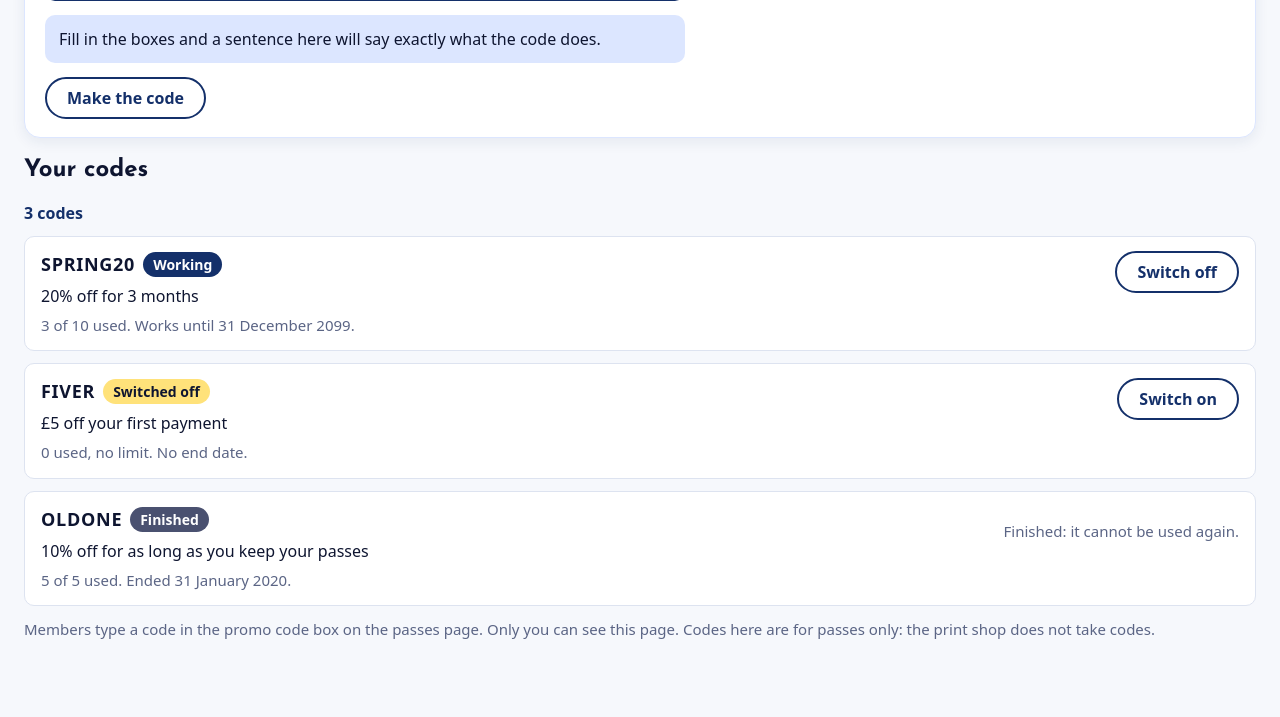
Scenario: the list of codes › switches a code back on
(page scrolled)
Expected: the text "FIVER" is shown, [41,378,95,405]
Click the button with aria-label "Switch on the code FIVER": coordinates (1178, 399) [1117,378,1239,420]
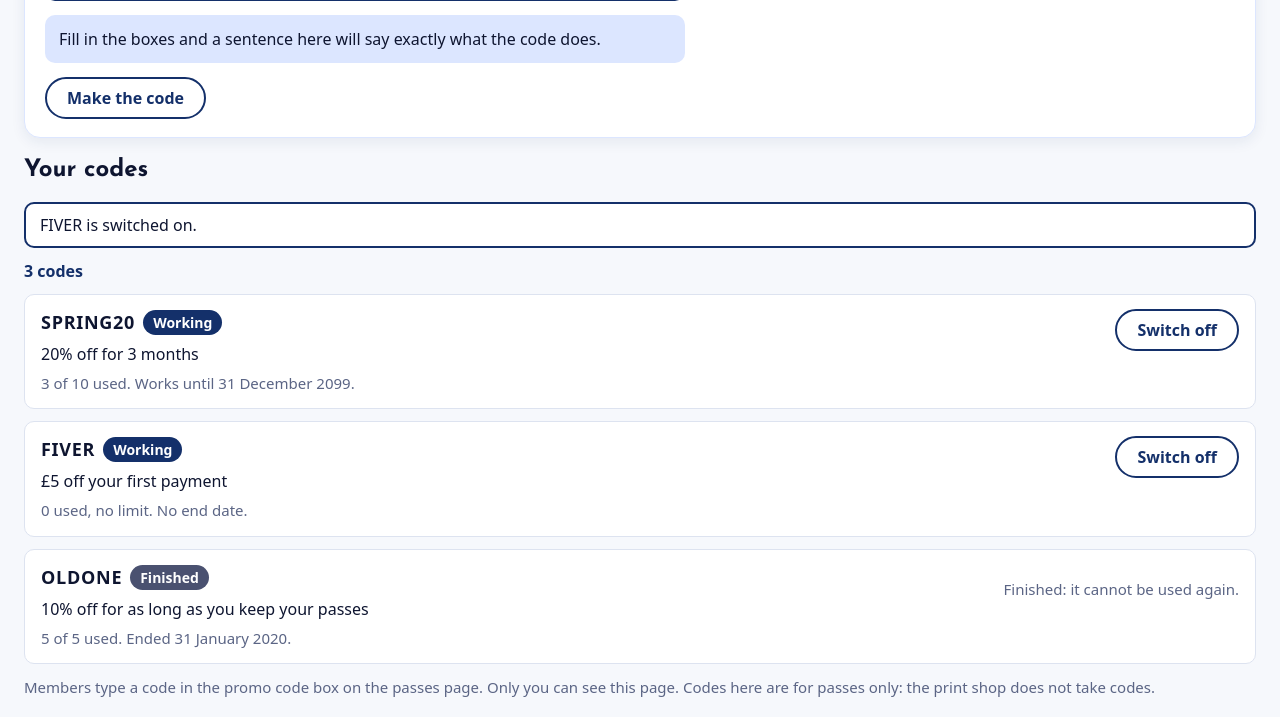
Expected: the 2nd text "Working" is shown, [103,437,182,462]
Expected: the text "FIVER is switched on." is shown, [24,202,1256,248]
